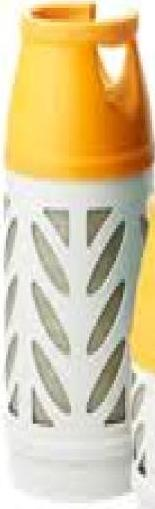cylinder: (0, 1, 155, 509)
